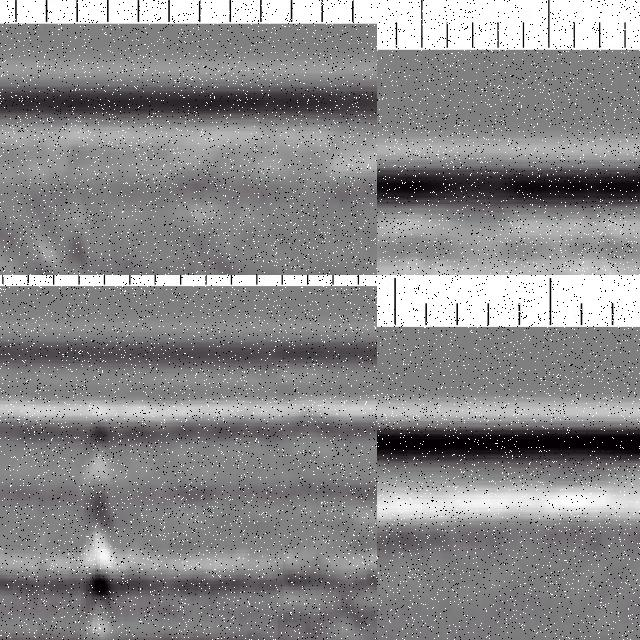crack: (78, 404, 121, 640), (60, 146, 89, 276)
